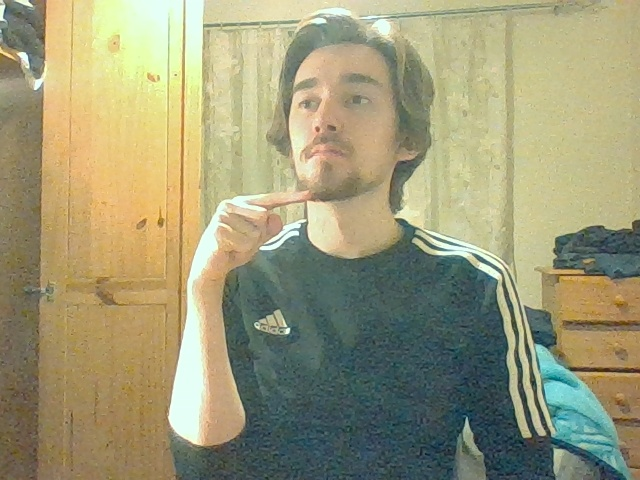son: (209, 190, 312, 263)
